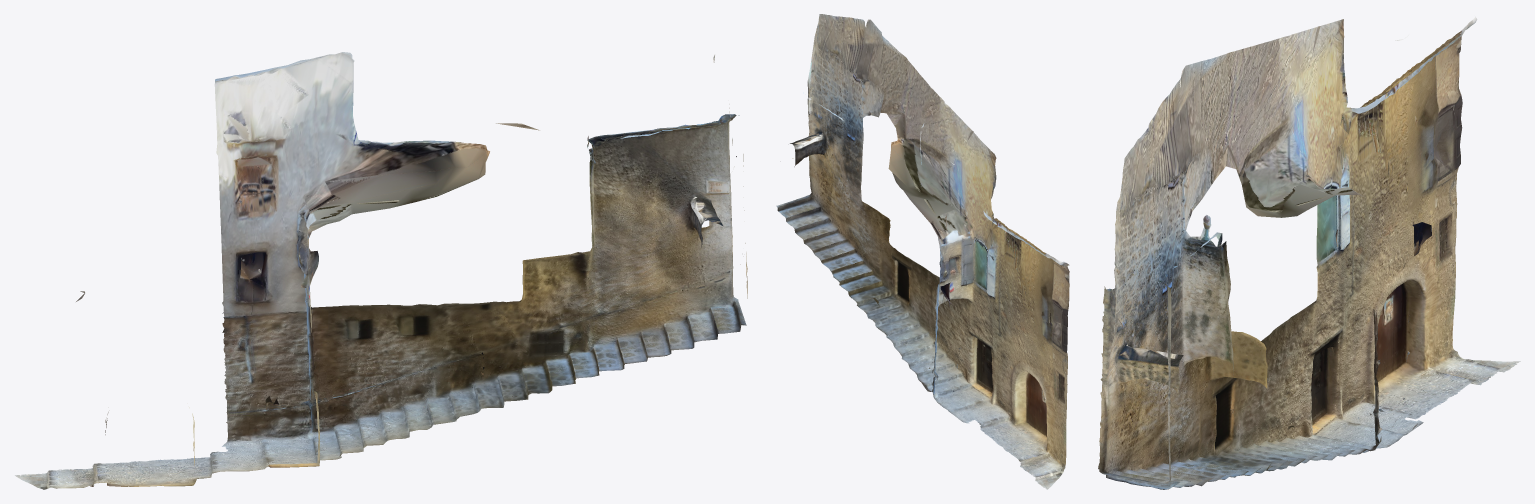
File: medium.glb
3 renders of one model, left to right at view 1: azimuth 30°, elevation 25°; view 2: azimuth 150°, elevation 25°; view 3: azimuth 270°, elevation 25°, orthographic. The views are drawn at different scales.
Visible parts, largest first — view 1: medium.007; view 2: medium.007; view 3: medium.007.
Boxes of the visible parts, x1=… form: medium.007: x1=15, y1=52, x2=747, y2=489; medium.007: x1=776, y1=14, x2=1069, y2=489; medium.007: x1=1098, y1=16, x2=1520, y2=489.
Bounding box in the file's own units: 15.93 × 12.7 × 9.47.
1 material, 1 textured.
